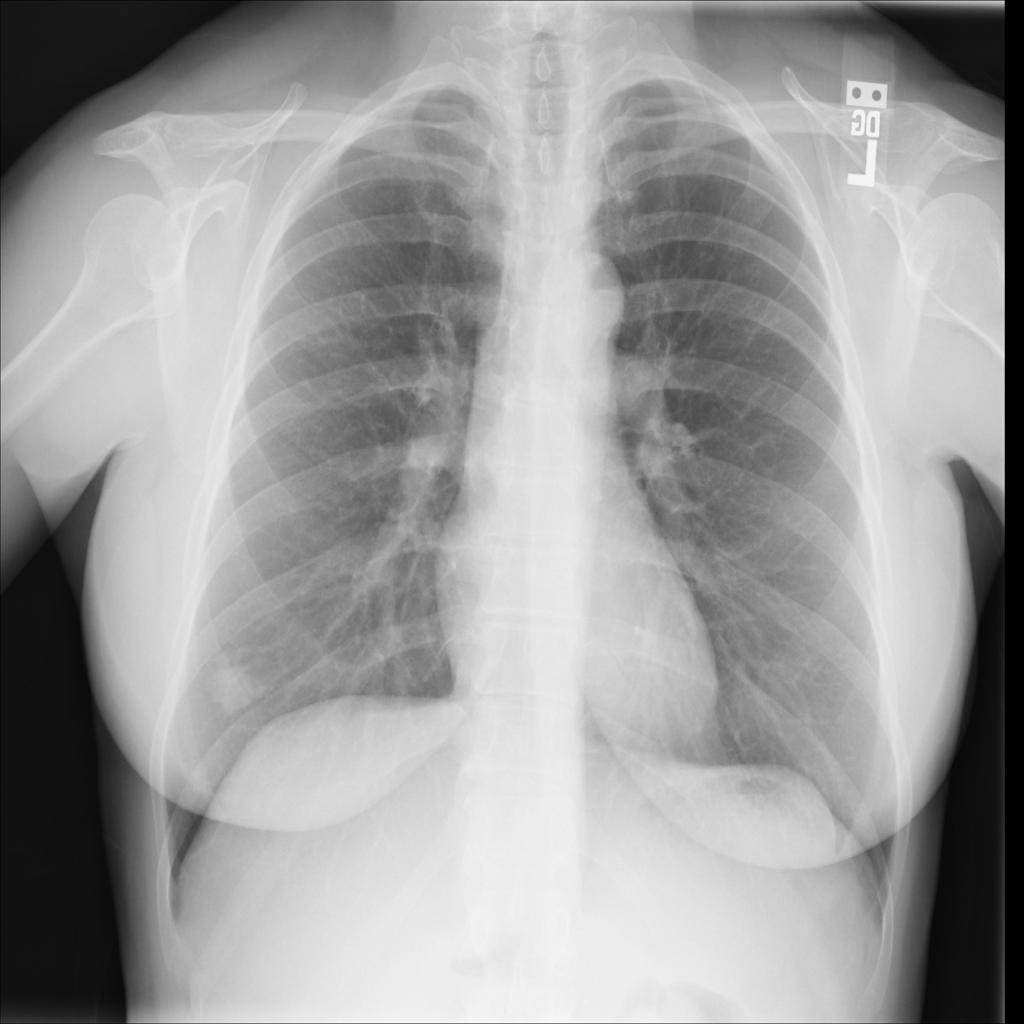nodule: (198, 647, 274, 724)
